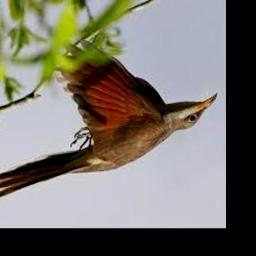Cuckoo: (0, 41, 217, 200)
